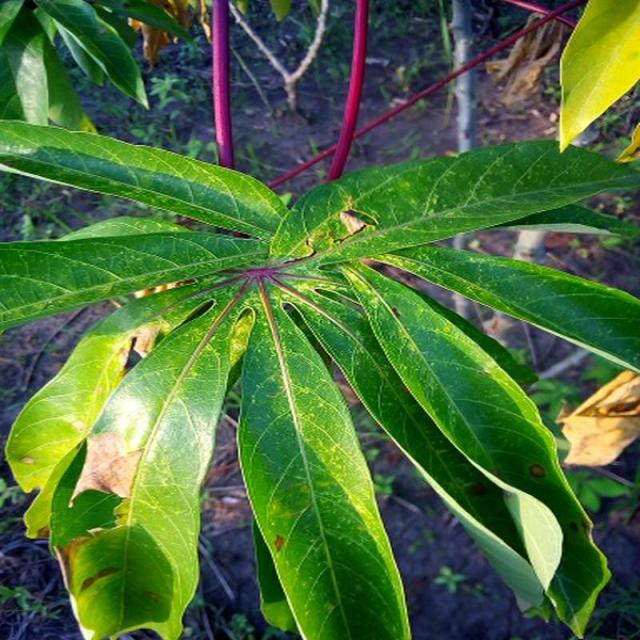cassava leaf: (0, 115, 638, 637), (235, 280, 411, 638)
